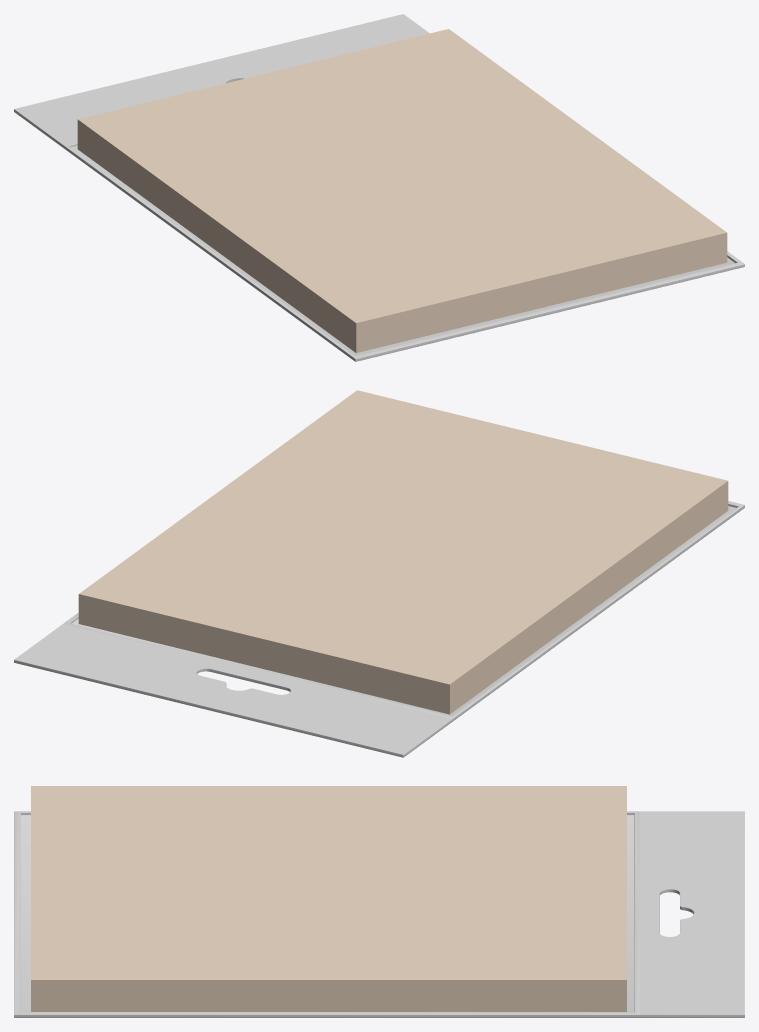
The model's file is 剪贴板.glb.
3 views of the same model, one above another, from view 1: azimuth 30°, elevation 25°; view 2: azimuth 150°, elevation 25°; view 3: azimuth 270°, elevation 25° (orthographic). The views are drawn at different scales.
Visible parts, largest first — view 1: 对象002, Rectangle002; view 2: 对象002, Rectangle002; view 3: 对象002, Rectangle002.
Part boxes in pixels (box(x1,y1,x2,y2)): 对象002: box(77, 29, 727, 352); Rectangle002: box(14, 14, 744, 361); 对象002: box(78, 390, 728, 714); Rectangle002: box(14, 501, 744, 757); 对象002: box(31, 786, 626, 1011); Rectangle002: box(14, 811, 744, 1017).
Size of the model in its own units: 5.29 by 0.4001 by 8.03.
